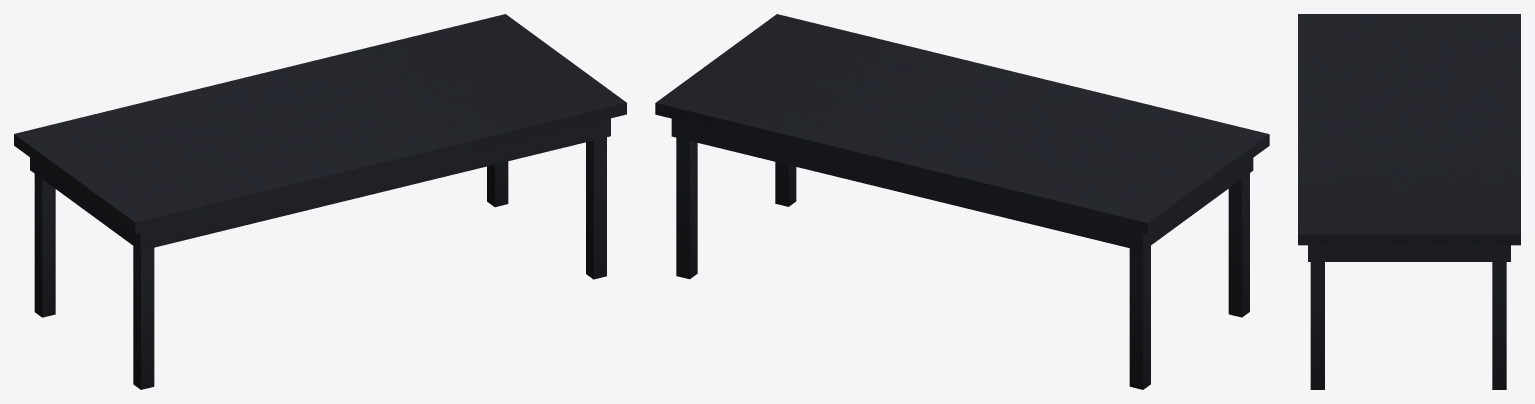
The model's file is MeetingTableBlack.FBX.
The picture shows the model from 3 angles, left to right: view 1: azimuth 30°, elevation 25°; view 2: azimuth 150°, elevation 25°; view 3: azimuth 270°, elevation 25°; orthographic projection. The views are drawn at different scales.
Visible parts, largest first — view 1: Box329; view 2: Box329; view 3: Box329.
Boxes of the visible parts, x1,y1,x2,y2 form: Box329: (14,14,626,389); Box329: (655,14,1269,389); Box329: (1298,14,1520,389).
Size of the model in its own units: 86.61 by 29.54 by 37.01.
